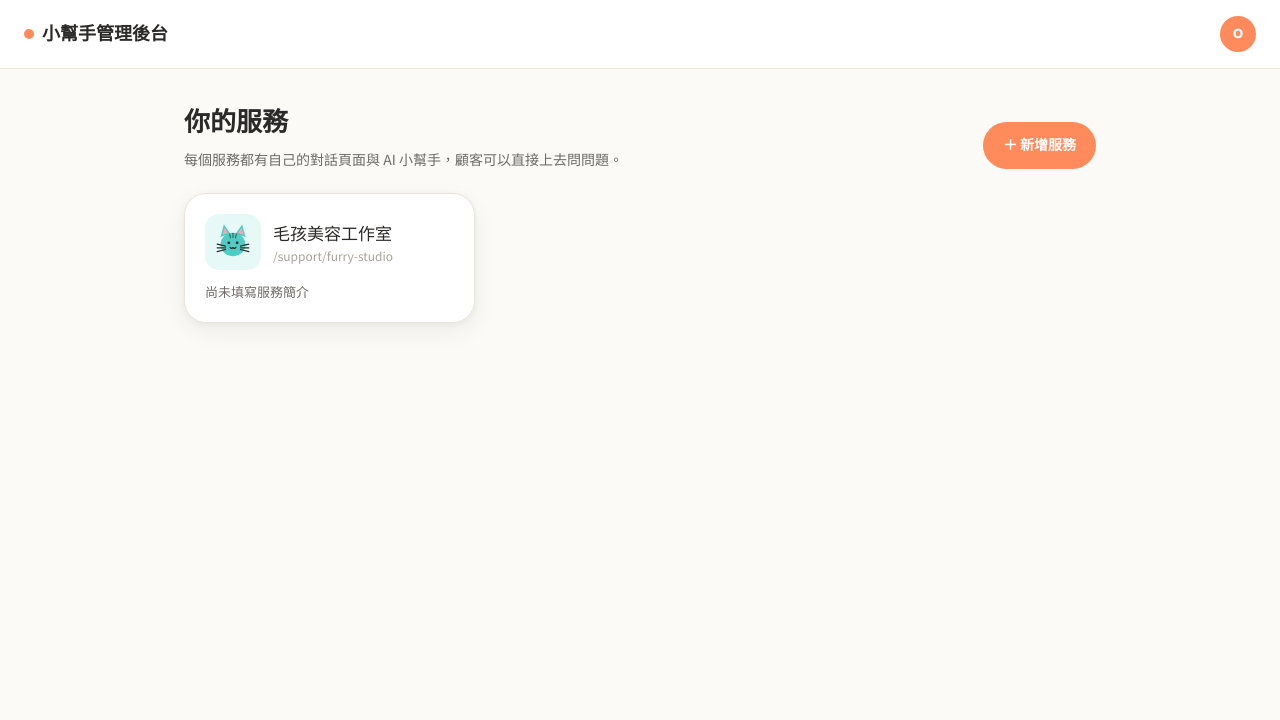
Scenario: console: conversation history tab › says so when conversations are not enabled on this server
Click the text "毛孩美容工作室". click: (333, 232)
box: 273,220 -> 393,245
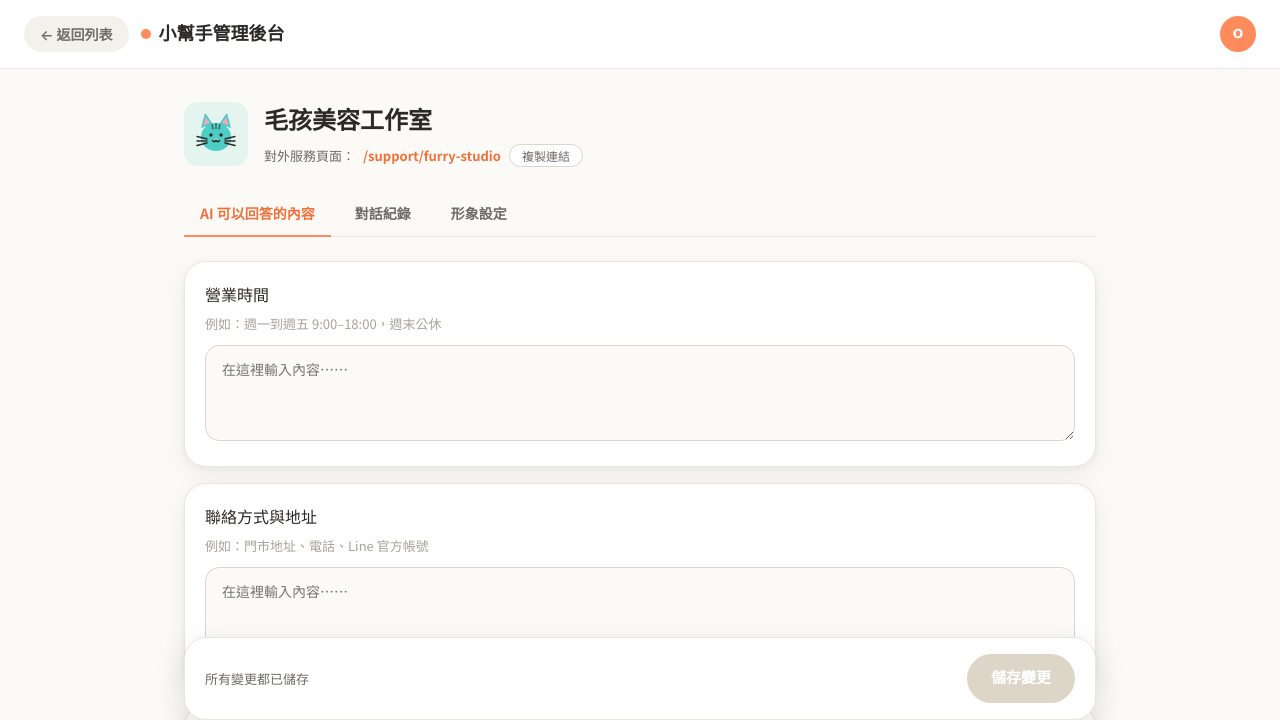
Check: the heading "毛孩美容工作室" is shown, box 264,103 -> 432,142
Click the button "對話紀錄". click: (383, 214)
box: 339,191 -> 427,237
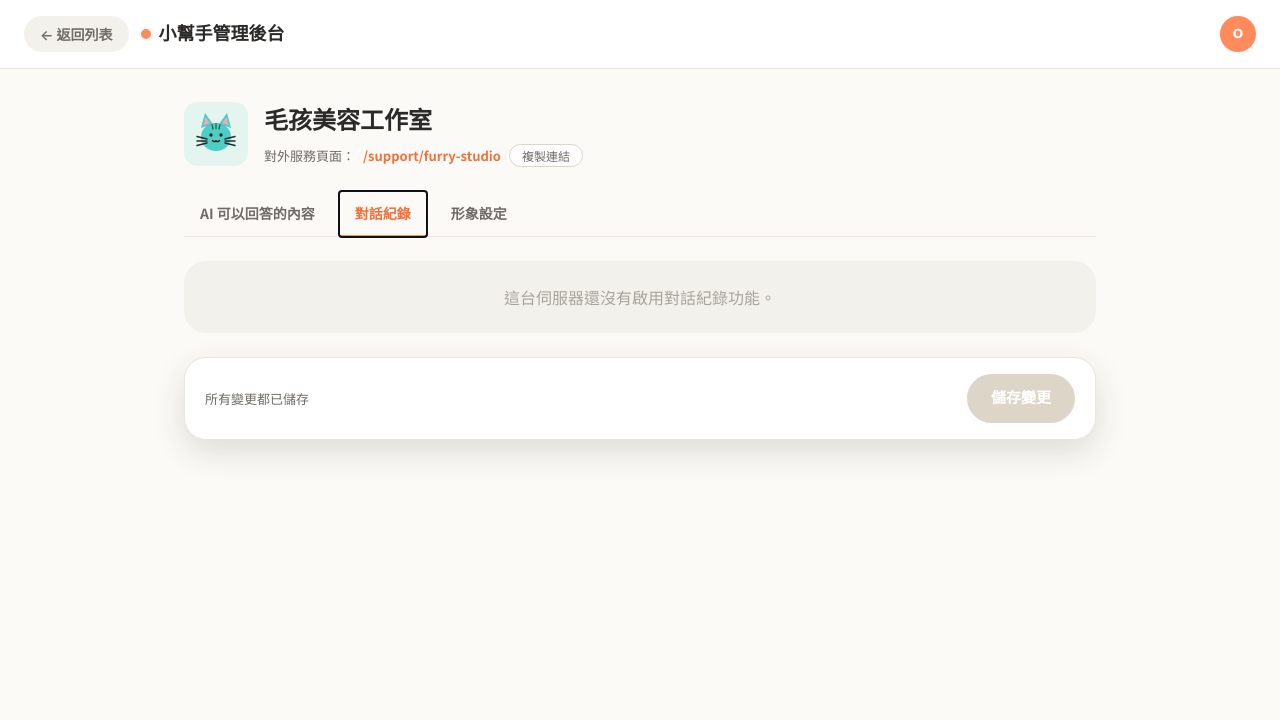
Check: the text "這台伺服器還沒有啟用對話紀錄功能。" is shown, box 184,261 -> 1096,333
